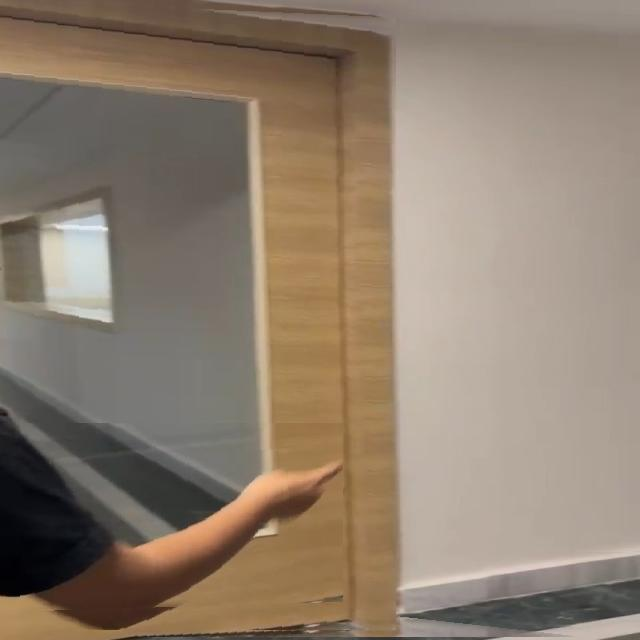door: (0, 0, 396, 630)
floor: (134, 587, 640, 637)
moving_object: (0, 423, 343, 612)
wall: (406, 0, 640, 555)
